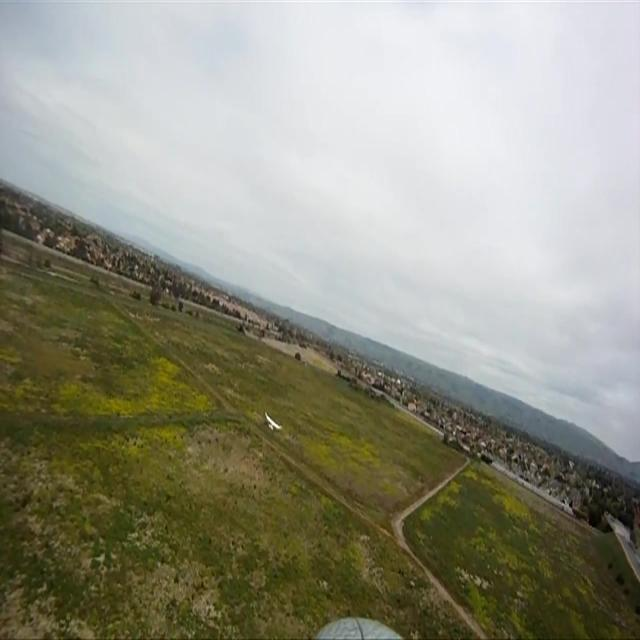iha: (264, 412, 283, 433)
